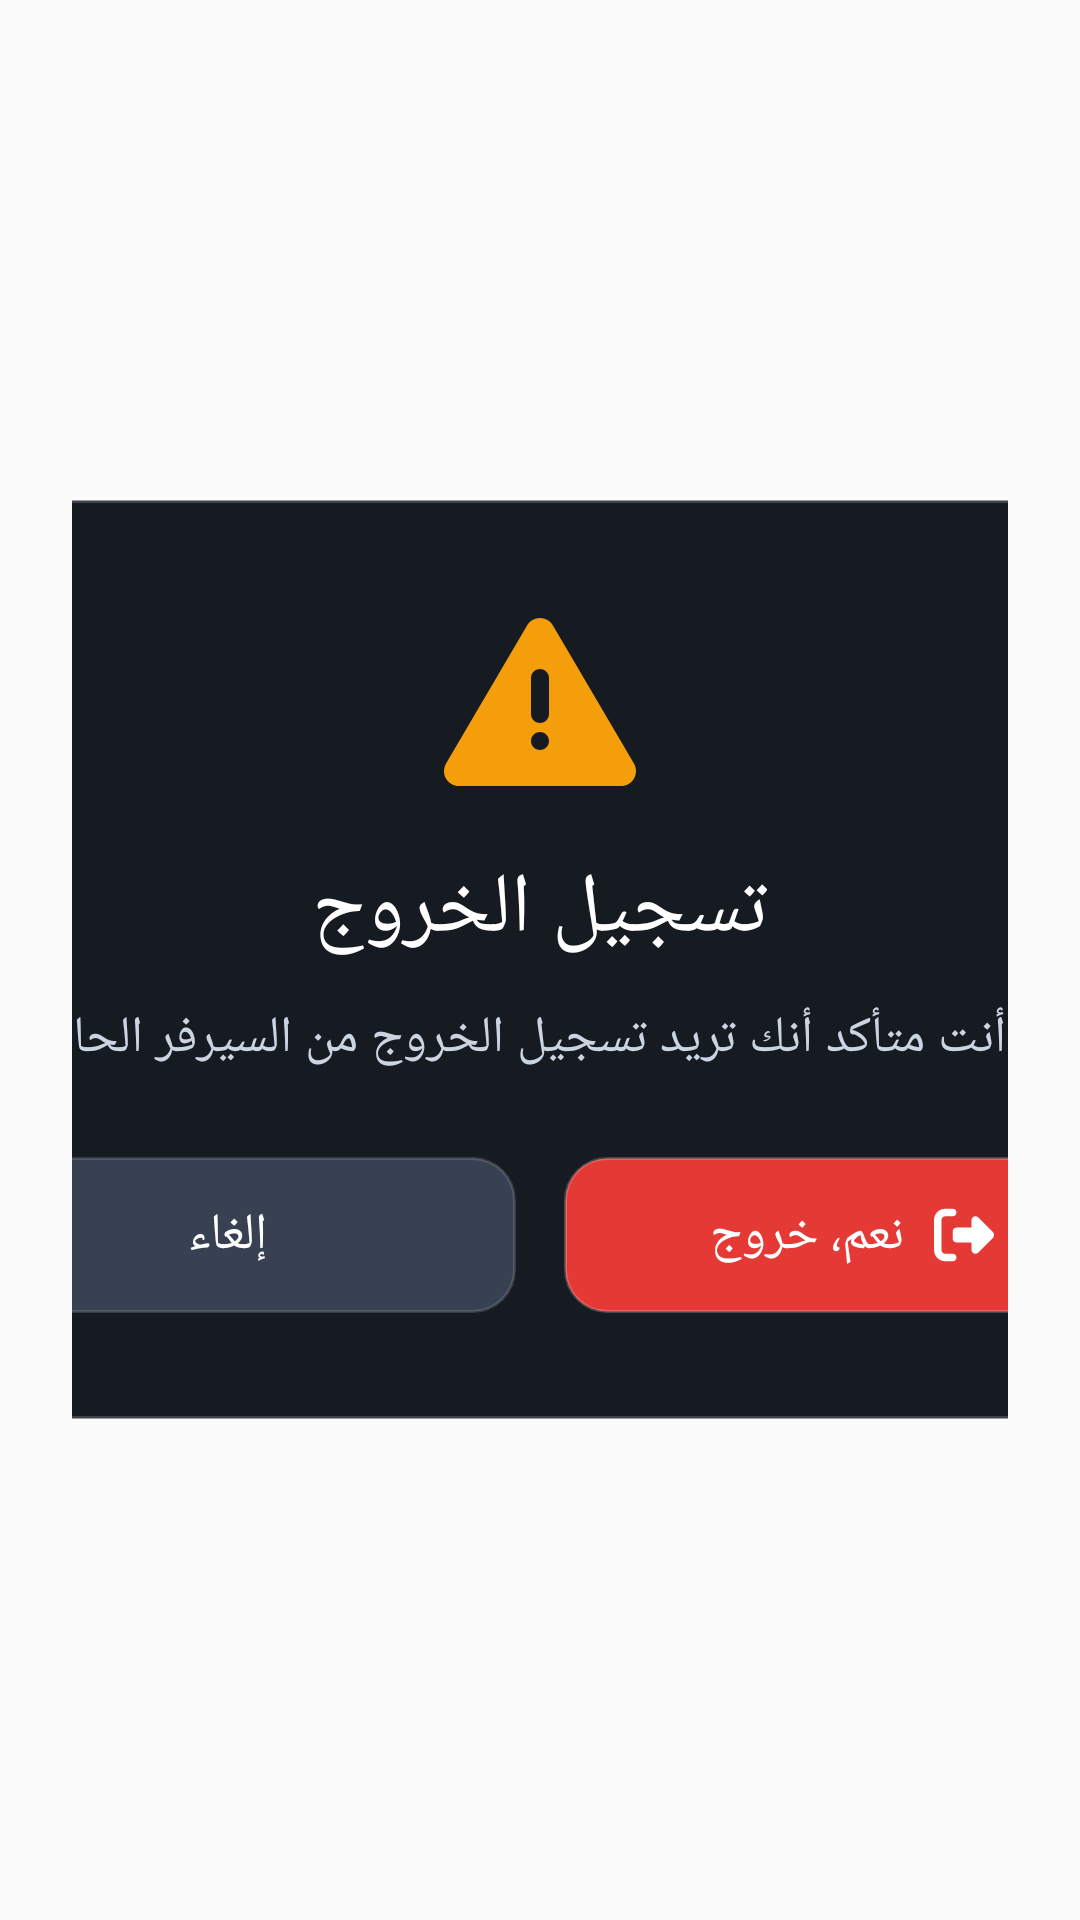

Locate icon controls on the screen. Image size 1080x1920, boxes as (x1, y1, x2, y2).
right from bracket: (934, 1208, 994, 1262)
تحذير: (444, 618, 636, 786)
